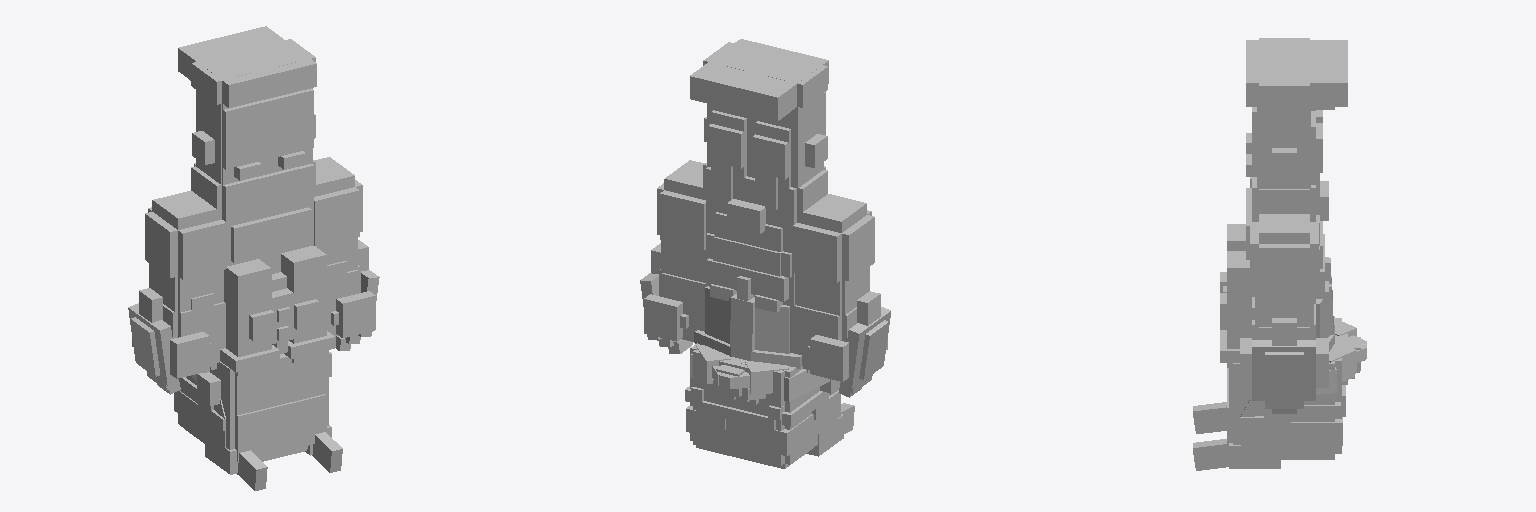
File: x02_full.obj
3 views of the same model, side by side, from view 1: azimuth 30°, elevation 25°; view 2: azimuth 150°, elevation 25°; view 3: azimuth 270°, elevation 25° (orthographic).
Parts seen in each view (by area): view 1: Body, RightArm, Head, LeftArm, RightLeg, LeftLeg, RightBoot, LeftBoot; view 2: RightArm, Head, Body, LeftArm, RightLeg, RightBoot, LeftLeg, LeftBoot; view 3: LeftArm, Head, LeftLeg, Body, LeftBoot, RightBoot.
Boxes of the visible parts, <box> form: Body: <box>220,200,335,376</box>; RightArm: <box>128,191,226,394</box>; Head: <box>174,350,342,490</box>; LeftArm: <box>314,157,379,350</box>; RightLeg: <box>191,90,269,221</box>; LeftLeg: <box>267,88,315,210</box>; RightBoot: <box>178,37,272,107</box>; LeftBoot: <box>223,26,316,96</box>; RightArm: <box>793,194,890,397</box>; Head: <box>685,343,854,468</box>; Body: <box>694,199,801,368</box>; LeftArm: <box>640,160,705,353</box>; RightLeg: <box>750,92,827,224</box>; RightBoot: <box>734,50,828,120</box>; LeftLeg: <box>703,104,751,207</box>; LeftBoot: <box>690,39,784,109</box>; LeftArm: <box>1240,214,1328,413</box>; Head: <box>1193,316,1366,470</box>; LeftLeg: <box>1246,107,1322,221</box>; Body: <box>1220,181,1334,367</box>; LeftBoot: <box>1246,62,1347,109</box>; RightBoot: <box>1246,38,1347,61</box>.
Bounding box in the file's own units: 20.56 × 33.54 × 13.69.